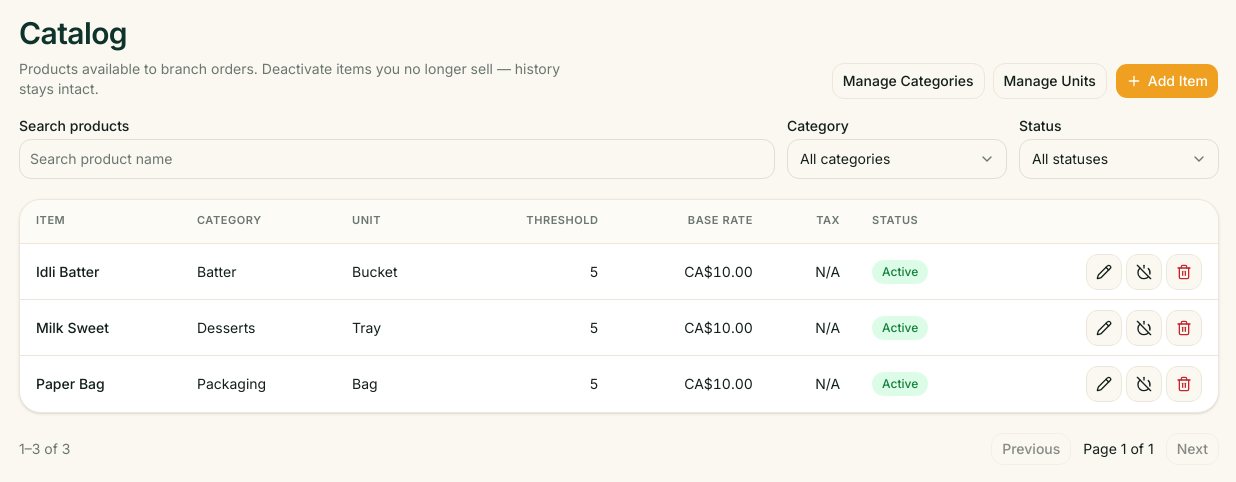
Test case: catalog combines category and product-name filters
Check: the text "Milk Sweet" is shown, box [36, 318, 109, 336]
Check: the column heading "Unit" is shown, box [336, 200, 455, 244]
Select "Desserts" in the dropdown labelled "Category" at coordinates (897, 158), box [787, 138, 1007, 178]
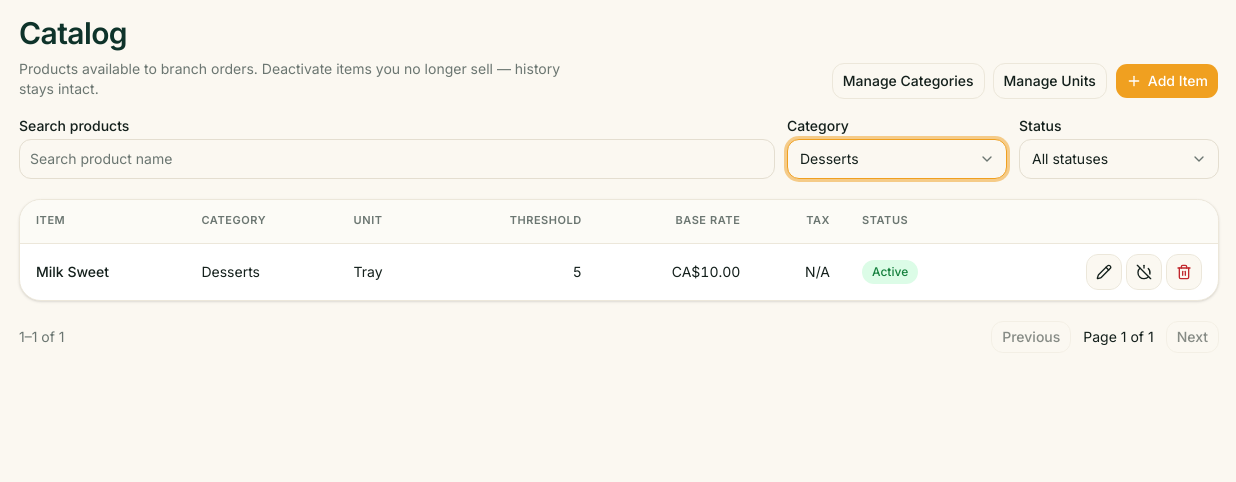
Check: the text "Milk Sweet" is shown, box [36, 263, 109, 280]
Check: the text "Idli Batter" is gone
Type "batter" into the search field labelled "Search products" at coordinates (397, 158), box [19, 138, 775, 178]
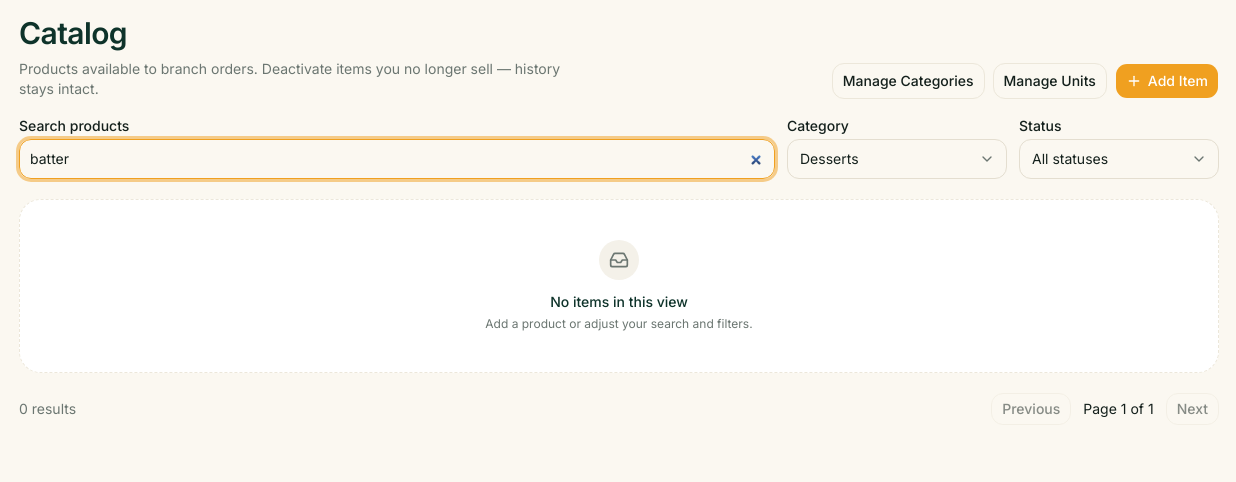
Check: the text "No items in this view" is shown, box [550, 292, 688, 310]
